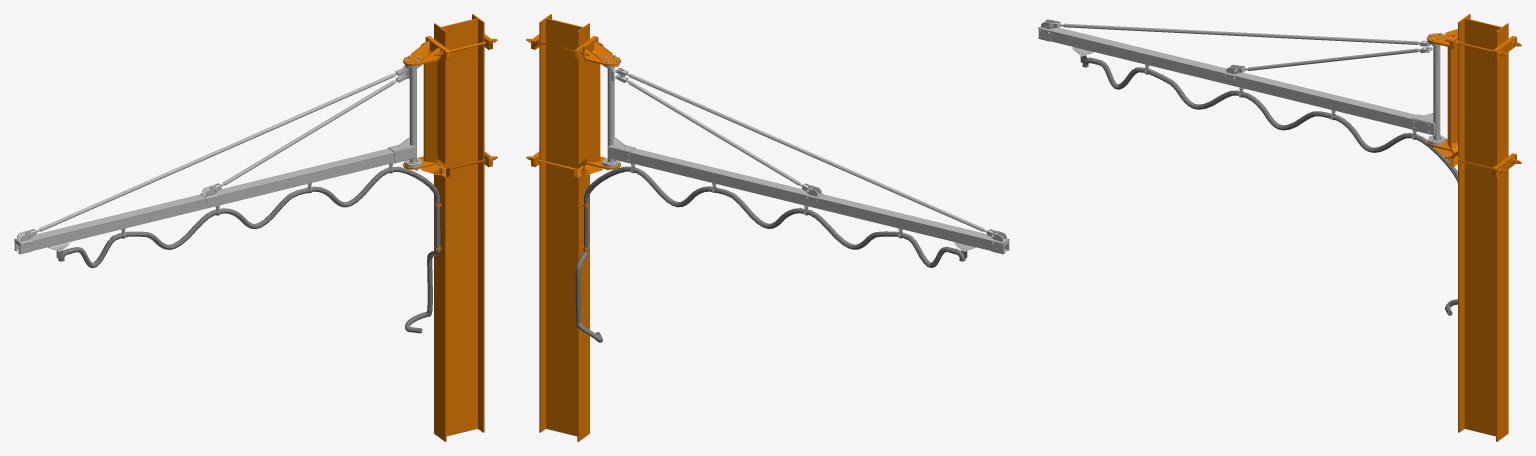
Rendered from aardwolf_all_part_WALL BRACED JIB CRANE 4M 250KG@p1_-200_0_0@p2_4085_0_2748_X.fbx.
The picture shows the model from 3 angles, left to right: view 1: azimuth 30°, elevation 25°; view 2: azimuth 150°, elevation 25°; view 3: azimuth 330°, elevation 25°; orthographic projection.
Parts seen in each view (by area): view 1: yellow003, aardwolf_all_part_obj329, Shape154, aardwolf_all_part_obj330, Object110, Shape153; view 2: yellow003, aardwolf_all_part_obj329, Shape154, aardwolf_all_part_obj330, Object110, Shape153; view 3: yellow003, aardwolf_all_part_obj329, Shape154, aardwolf_all_part_obj330, Object110.
Part boxes in pixels (left/top/right/bottom): yellow003: left=434, top=14, right=484, bottom=441; aardwolf_all_part_obj329: left=14, top=55, right=421, bottom=254; Shape154: left=73, top=167, right=390, bottom=268; aardwolf_all_part_obj330: left=403, top=34, right=497, bottom=177; Object110: left=423, top=61, right=437, bottom=162; Shape153: left=392, top=166, right=440, bottom=333; yellow003: left=539, top=14, right=589, bottom=441; aardwolf_all_part_obj329: left=602, top=55, right=1009, bottom=254; Shape154: left=633, top=167, right=951, bottom=267; aardwolf_all_part_obj330: left=526, top=34, right=620, bottom=177; Object110: left=586, top=61, right=600, bottom=162; Shape153: left=575, top=166, right=631, bottom=342; yellow003: left=1458, top=14, right=1508, bottom=441; aardwolf_all_part_obj329: left=1038, top=19, right=1445, bottom=148; Shape154: left=1095, top=59, right=1413, bottom=152; aardwolf_all_part_obj330: left=1427, top=29, right=1521, bottom=177; Object110: left=1447, top=47, right=1457, bottom=149.
Size of the model in its own units: 4831 by 4000 by 373.
